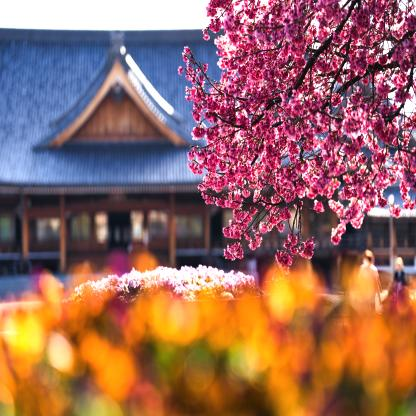KanhiSakura: (177, 0, 416, 273)
